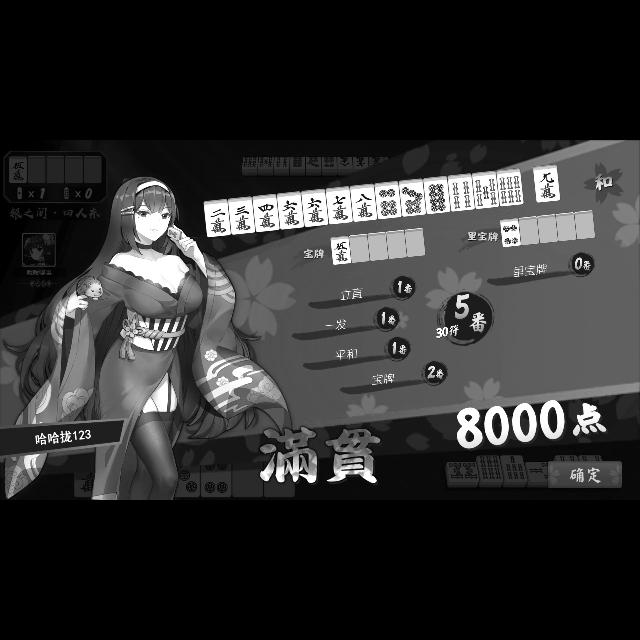2m: (203, 199, 230, 237)
3m: (228, 197, 256, 235)
4m: (252, 194, 280, 232)
4p: (501, 218, 522, 248)
4s: (448, 174, 474, 212)
5m: (331, 236, 352, 264)
5s: (472, 172, 500, 208)
6m: (302, 189, 328, 227), (277, 192, 303, 228)
6p: (375, 181, 401, 219)
6s: (497, 168, 523, 206)
7m: (326, 186, 352, 224)
7p: (400, 179, 426, 217)
8m: (350, 184, 378, 222)
8p: (424, 176, 451, 214)
9m: (534, 164, 560, 202)
